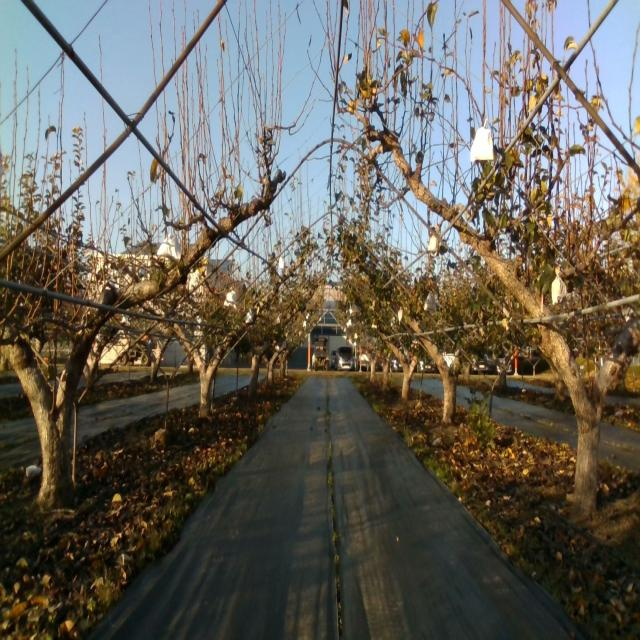pearbags: (469, 121, 494, 163), (156, 230, 182, 260), (550, 268, 567, 303), (224, 286, 237, 309), (424, 292, 437, 311)
